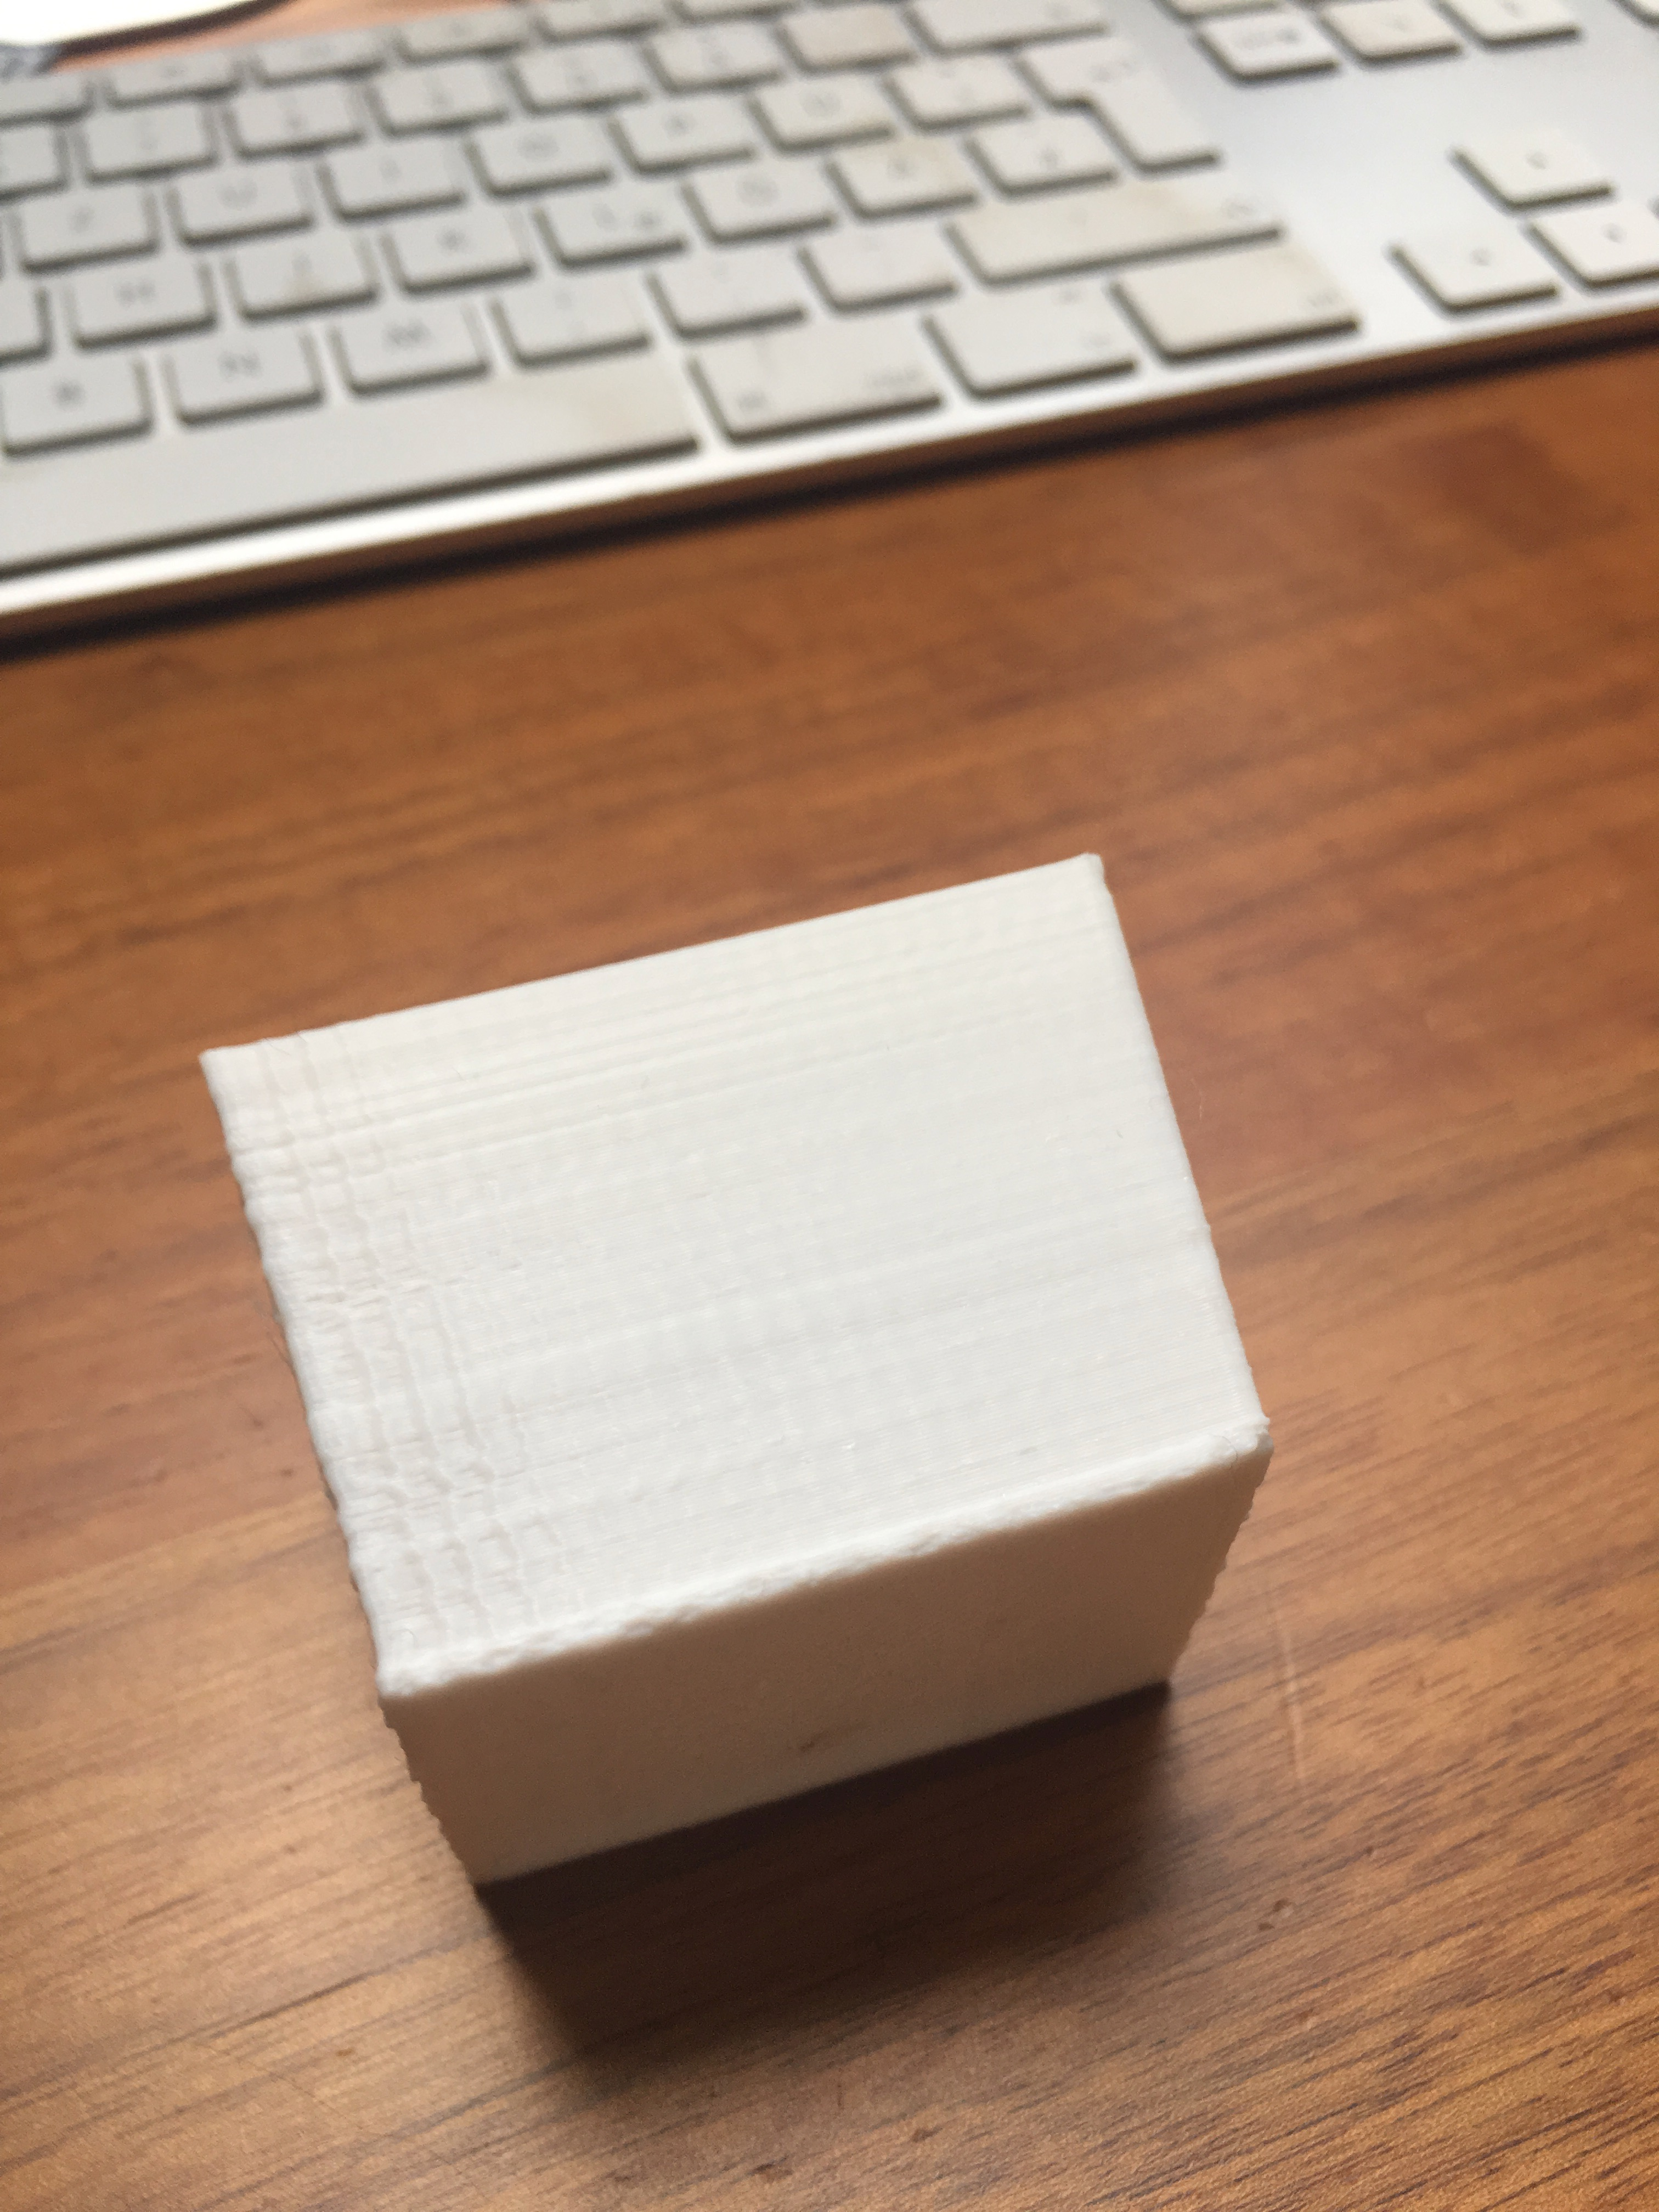3dpripples: (706, 1244, 988, 1482), (286, 1071, 469, 1423), (333, 1435, 580, 1670)
